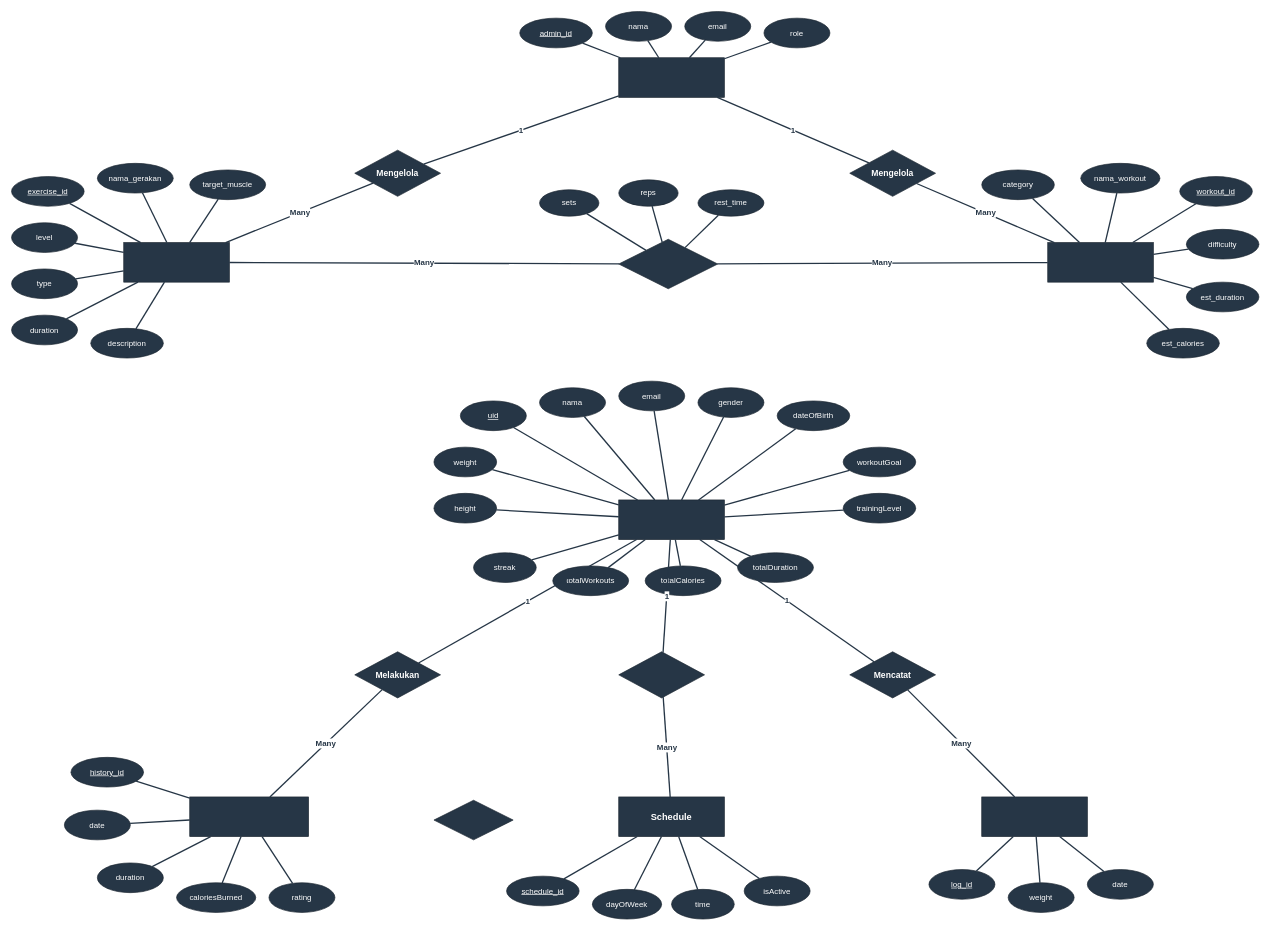
This 1271x931 diagram has some shape labels left out. Each missing label, with the centre of its shape:
"Admin" goes at (671,77).
"Dicatat Pada" goes at (473,820).
"Exercise" goes at (176,262).
"Mengatur" goes at (661,674).
"Terdiri Dari" goes at (668,264).
"User" goes at (671,519).
"WeightLog" goes at (1034,816).
"Workout" goes at (1100,262).
"WorkoutHistory" goes at (249,816).
